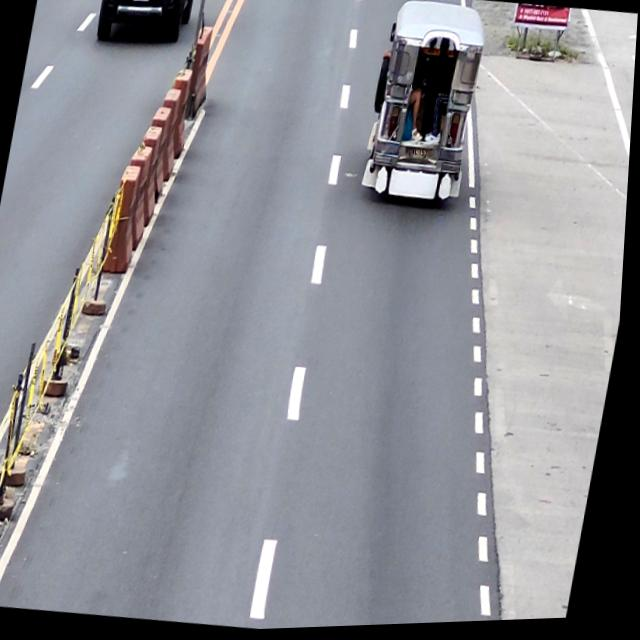Jeep: (357, 0, 492, 217)
License-Plate: (404, 147, 432, 164)
